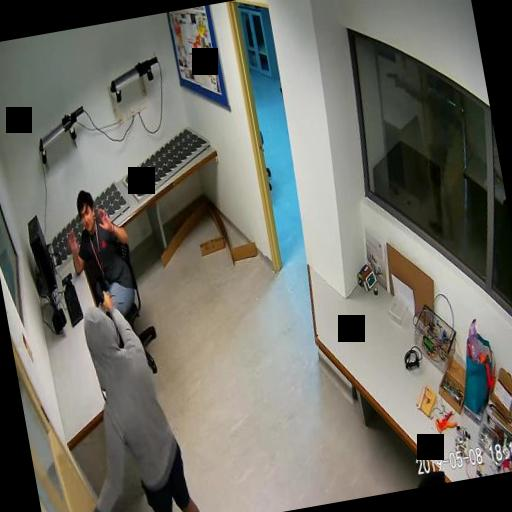Handgun: (92, 278, 112, 310)
